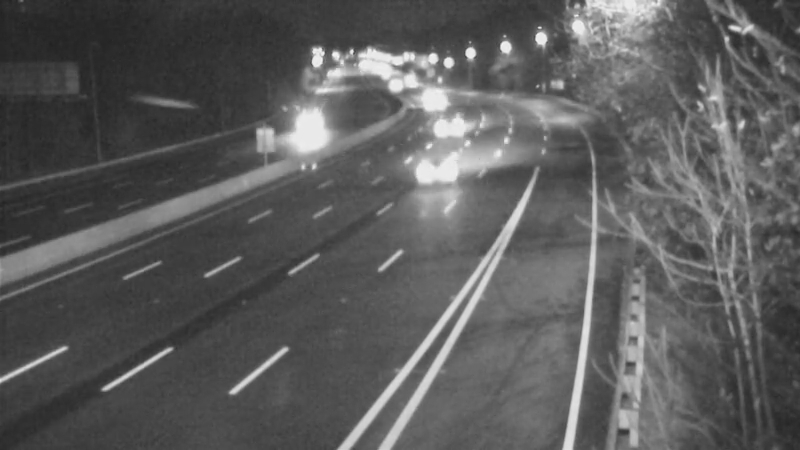vehicle: (401, 135, 481, 215), (416, 77, 466, 127), (420, 96, 470, 146), (274, 106, 324, 156)
